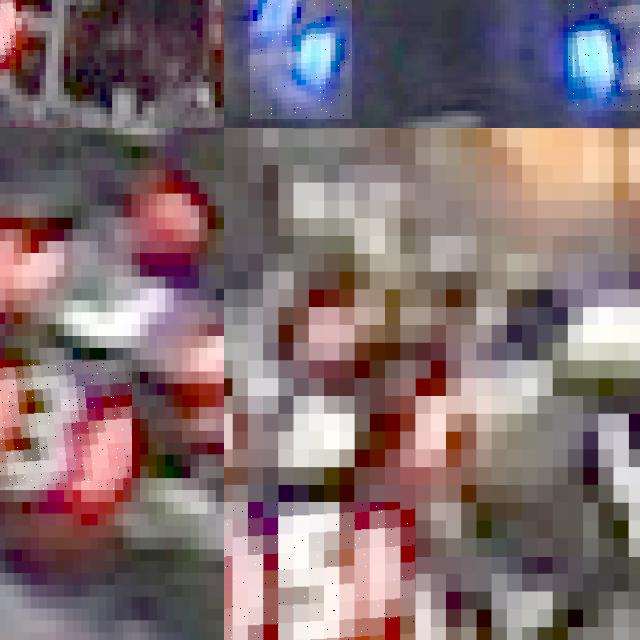B2: (250, 0, 352, 119), (568, 0, 640, 110)
R3: (0, 359, 131, 490)
R5: (224, 502, 415, 640)
